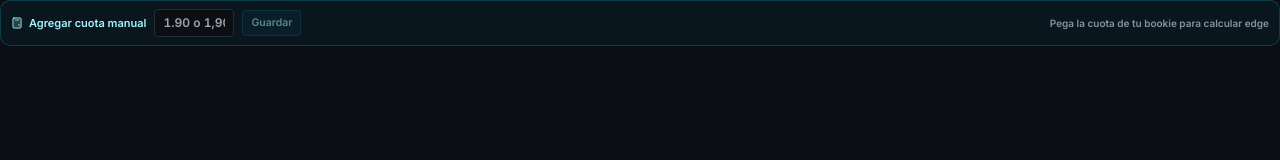
Test: match_card_updates_odds_after_reprice
The image size is (1280, 160).
Step 1. Type "1.92" into the field with test id "inline-manual-odds-input-field" → coordinates (194, 23), box [154, 9, 234, 37]
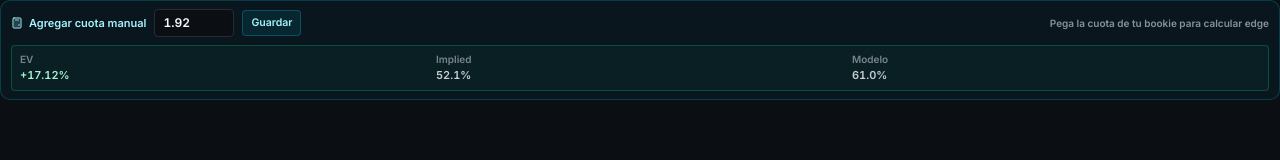
Step 2. Click the button with test id "inline-manual-odds-input-submit" → coordinates (272, 23), box [242, 10, 301, 36]
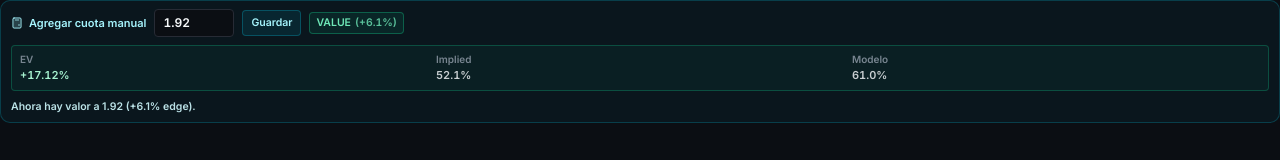
expect the element with test id "inline-manual-odds-input-decision" shows "VALUE": met, box [316, 16, 351, 29]
expect the element with test id "inline-manual-odds-input-decision" shows "+6.1%": met, box [310, 12, 404, 34]
